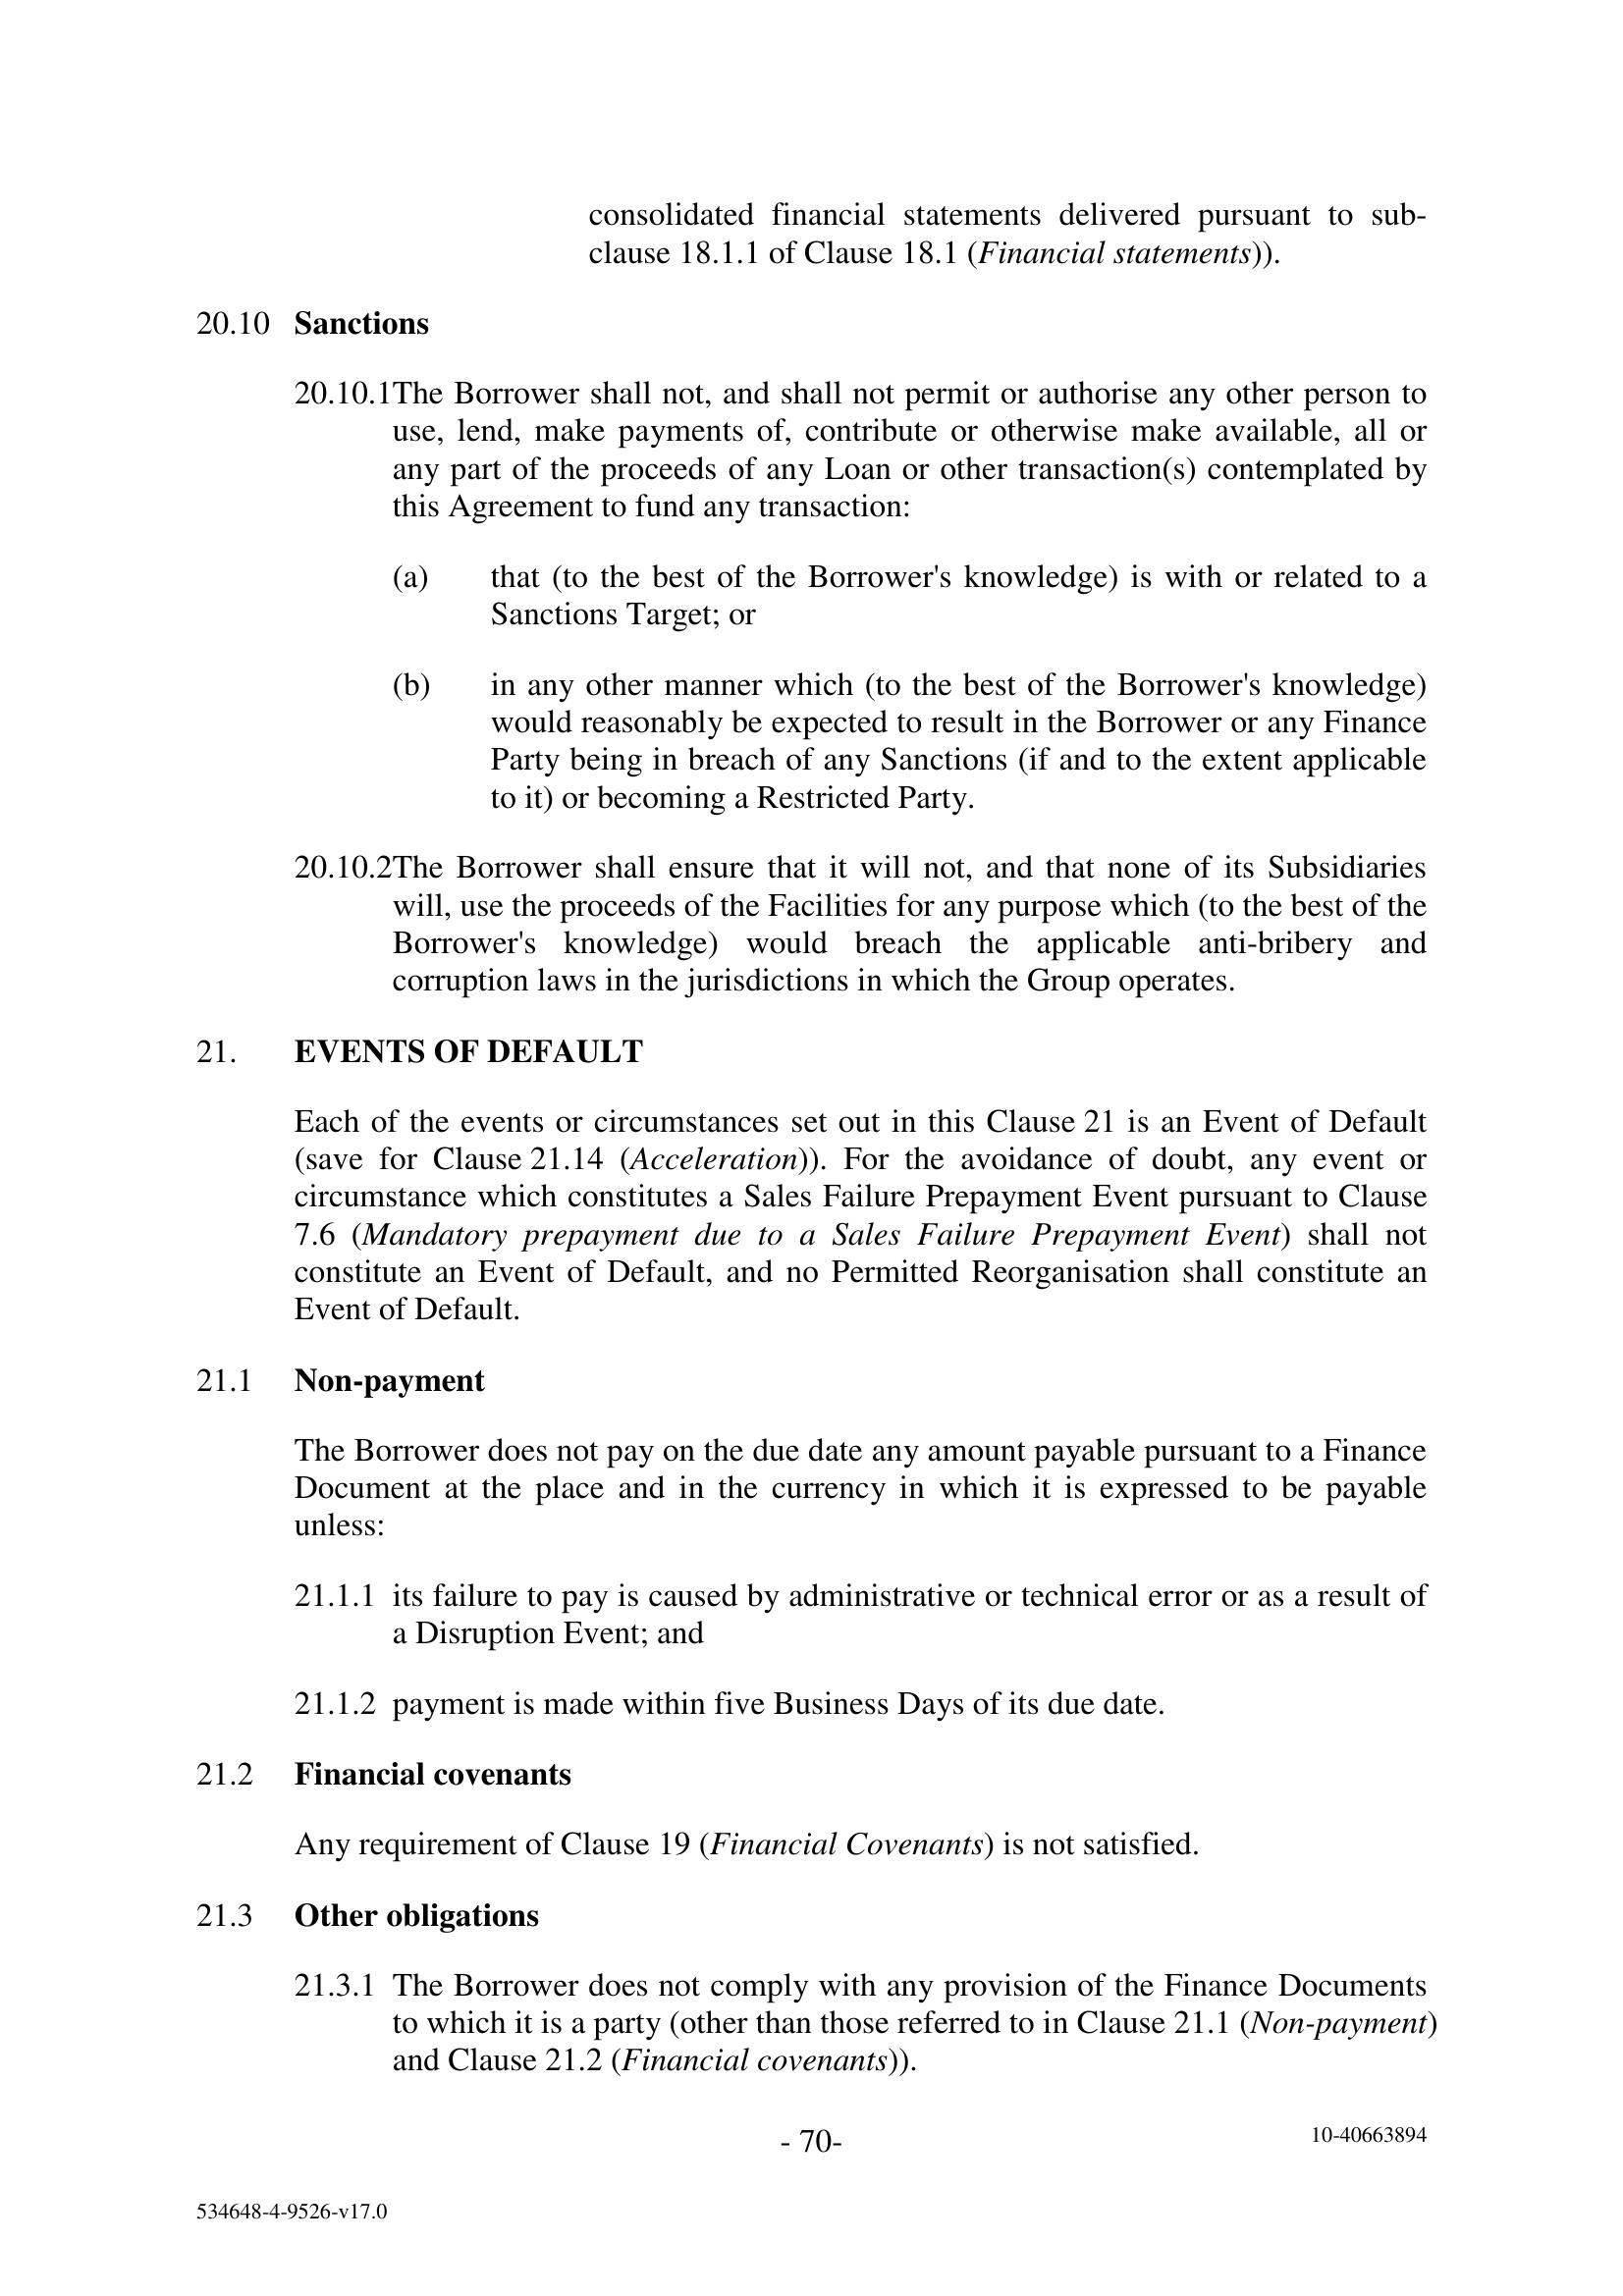pageno: (720, 2092, 906, 2208)
tag: (1193, 2073, 1554, 2206), (84, 2168, 488, 2270)
